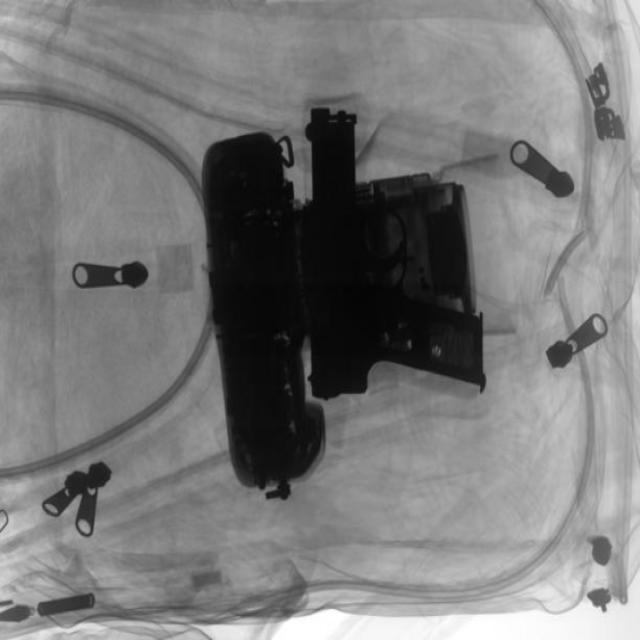GUN: (305, 98, 505, 408)
